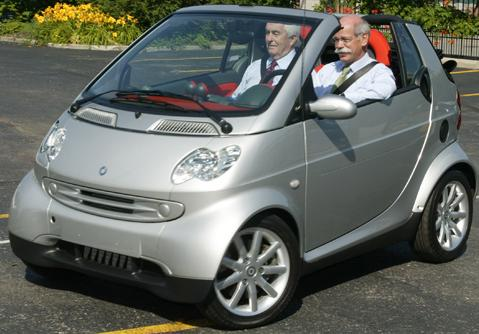front_view: (20, 108, 253, 309)
headlight: (163, 138, 243, 199)
